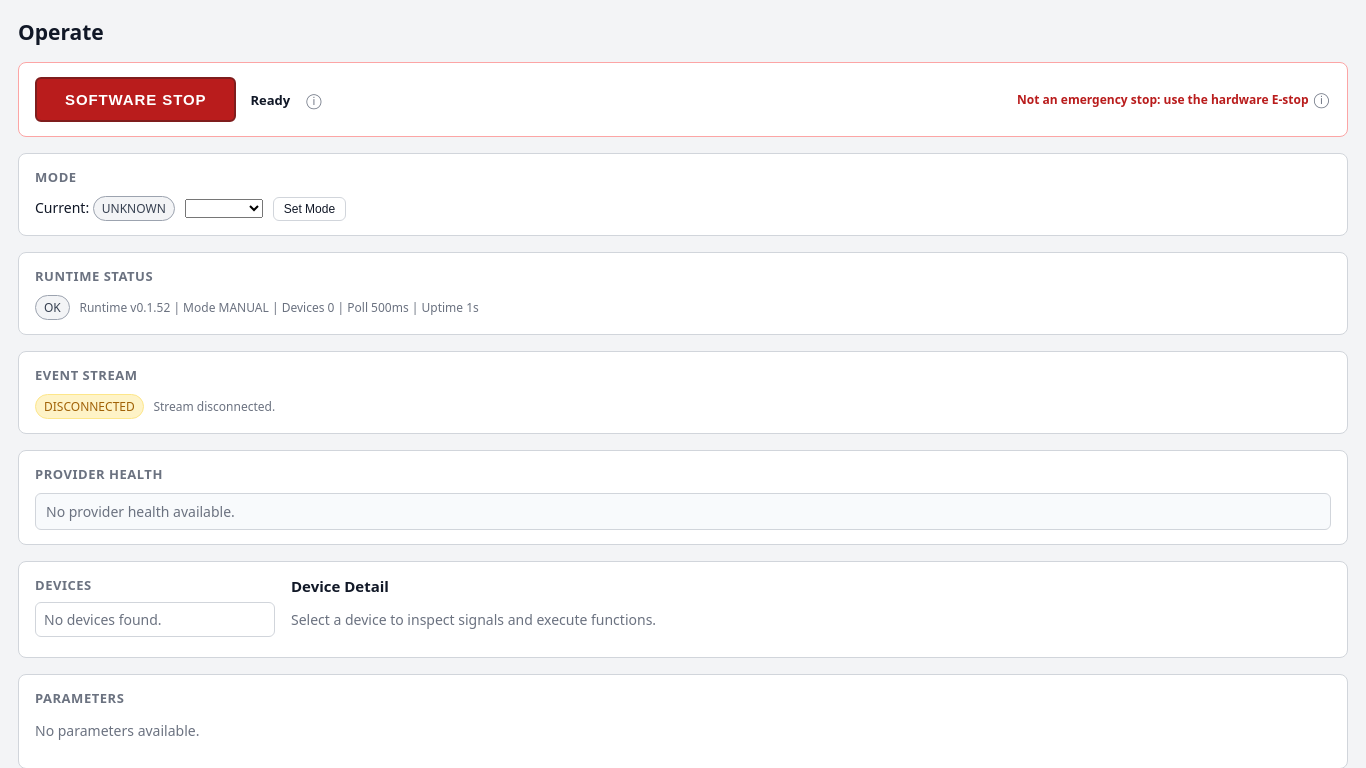
it: Operate.svelte — the software stop card is one row (#613) › under hooks: Ready in the row, the rung behind its ⓘ
The width and height of the screenshot is (1366, 768).
Expected: the text with test id "estop-state" reads "Ready", [250,90,290,108]
Expected: the text "Latches actuation, then runs the declared safe-state hooks" is not shown
Click the button named "About the software stop" at point(314, 100), box [304,92,324,107]
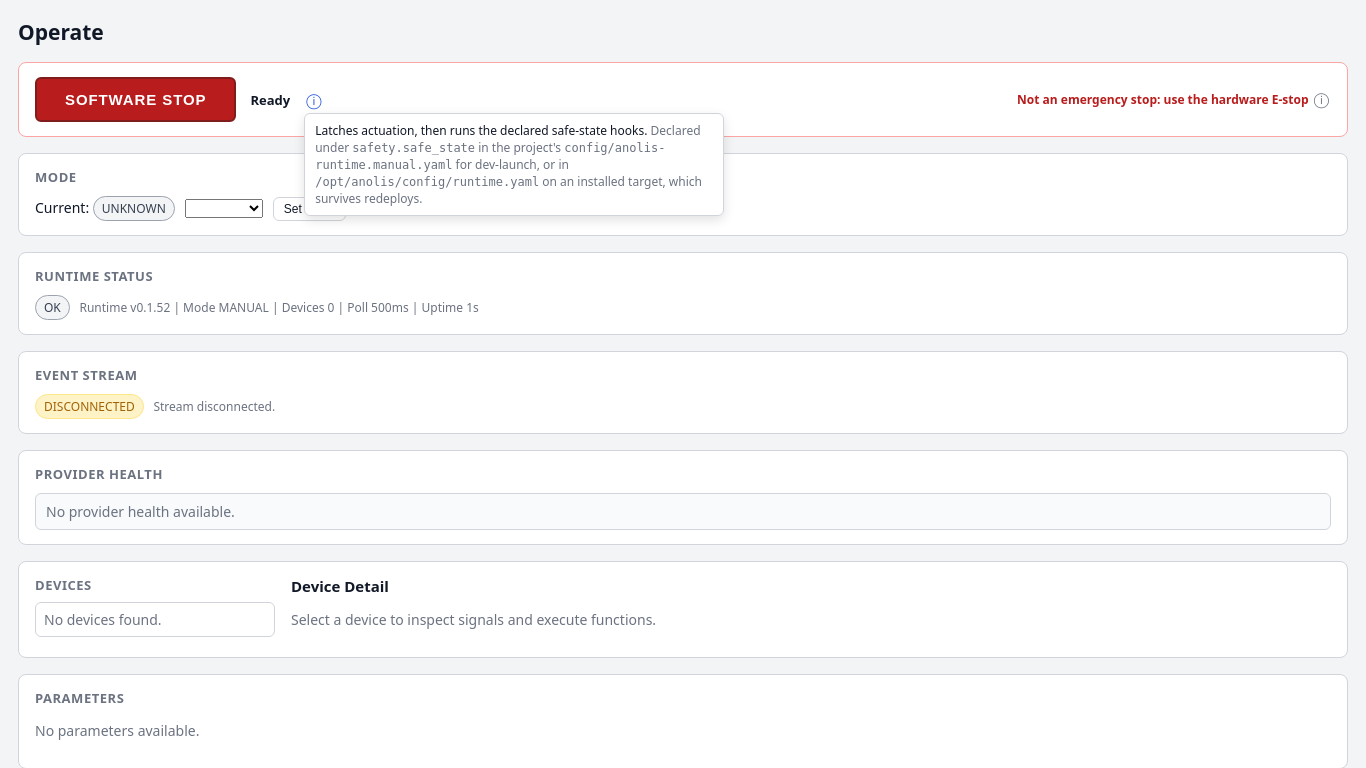
Expected: the text "Latches actuation, then runs the declared safe-state hooks" is shown, [315,122,647,139]
Expected: the element with test id "safe-state-fix" is shown, [315,122,702,207]
